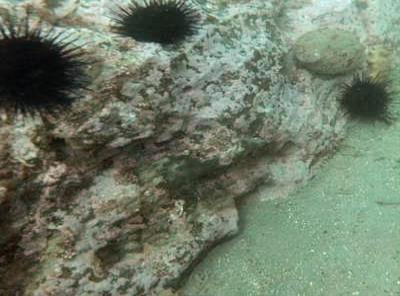urchin: (0, 20, 89, 117), (95, 0, 207, 49), (336, 70, 397, 127)
